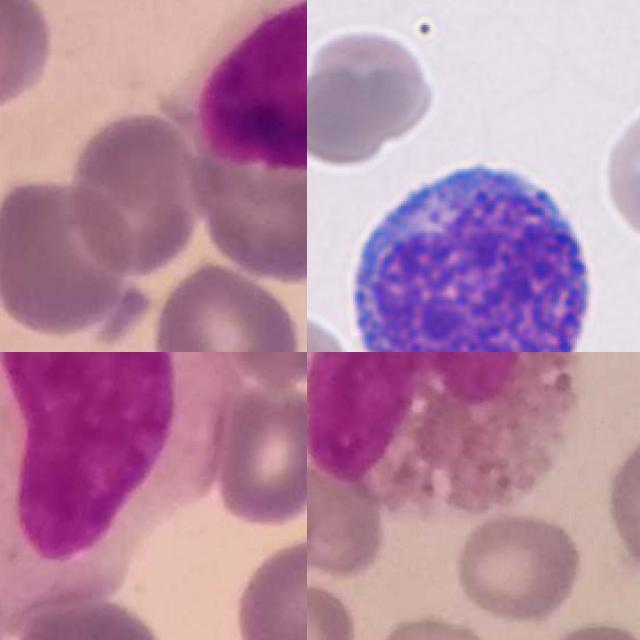Eosinophil: (307, 352, 579, 511)
Lymphocyte: (335, 149, 609, 352), (169, 0, 307, 178)
Monocyte: (0, 352, 230, 619)
RBC: (307, 25, 434, 169), (601, 94, 640, 243)
